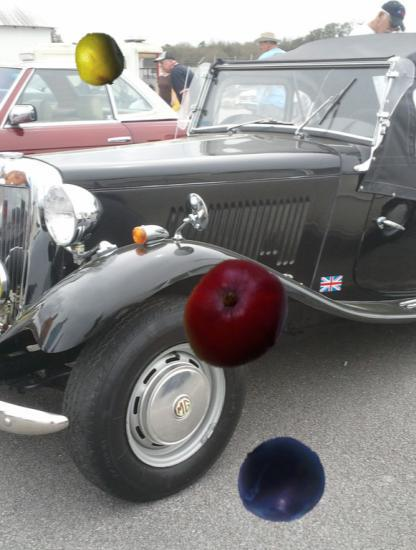Mango: (177, 257, 293, 373)
Plum: (236, 436, 327, 527)
Pomelo: (71, 31, 128, 88)
